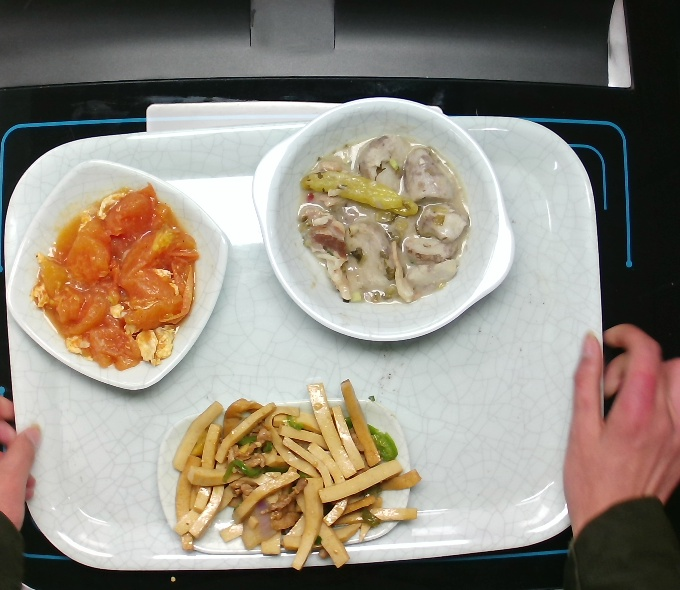wcq-FanQieChaoDan: (28, 179, 203, 375)
wcq-QianYeDouFu: (150, 376, 424, 574)
wcq-YangYu: (291, 129, 478, 311)
